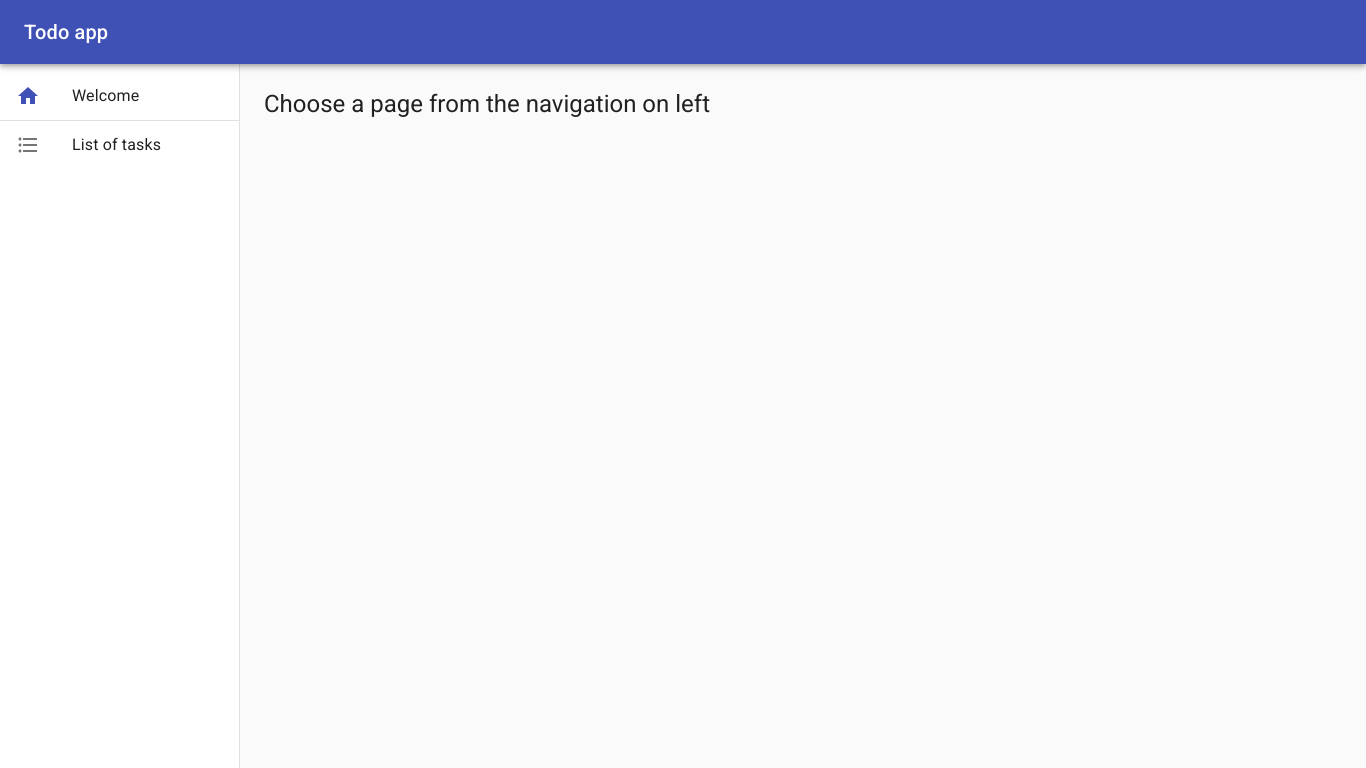
Scenario: Task list page testing › The page should contain form and it should perform well
The image size is (1366, 768).
Click the link "List of tasks" at (89, 145), box [16,133,161,157]
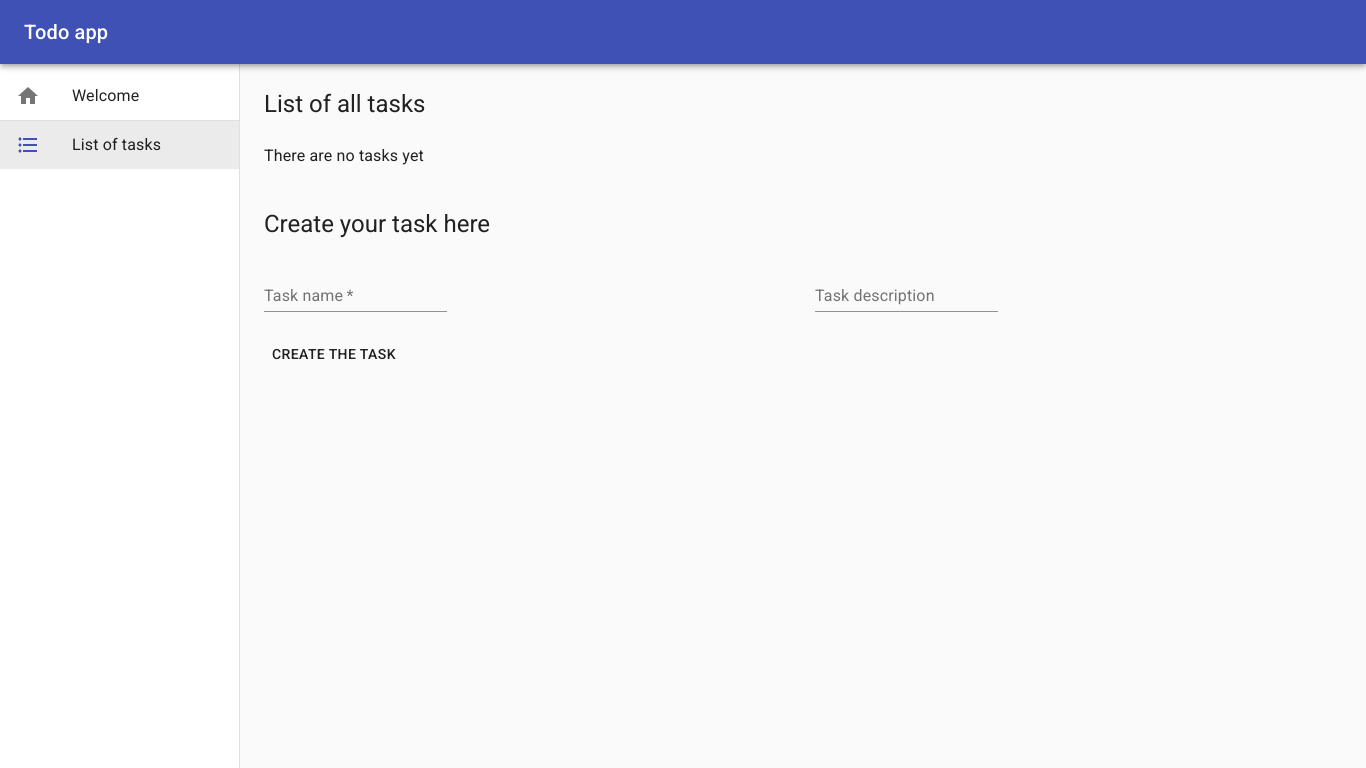
Type "hello" into the element with test id "name" at (356, 288), box [264,264,447,312]
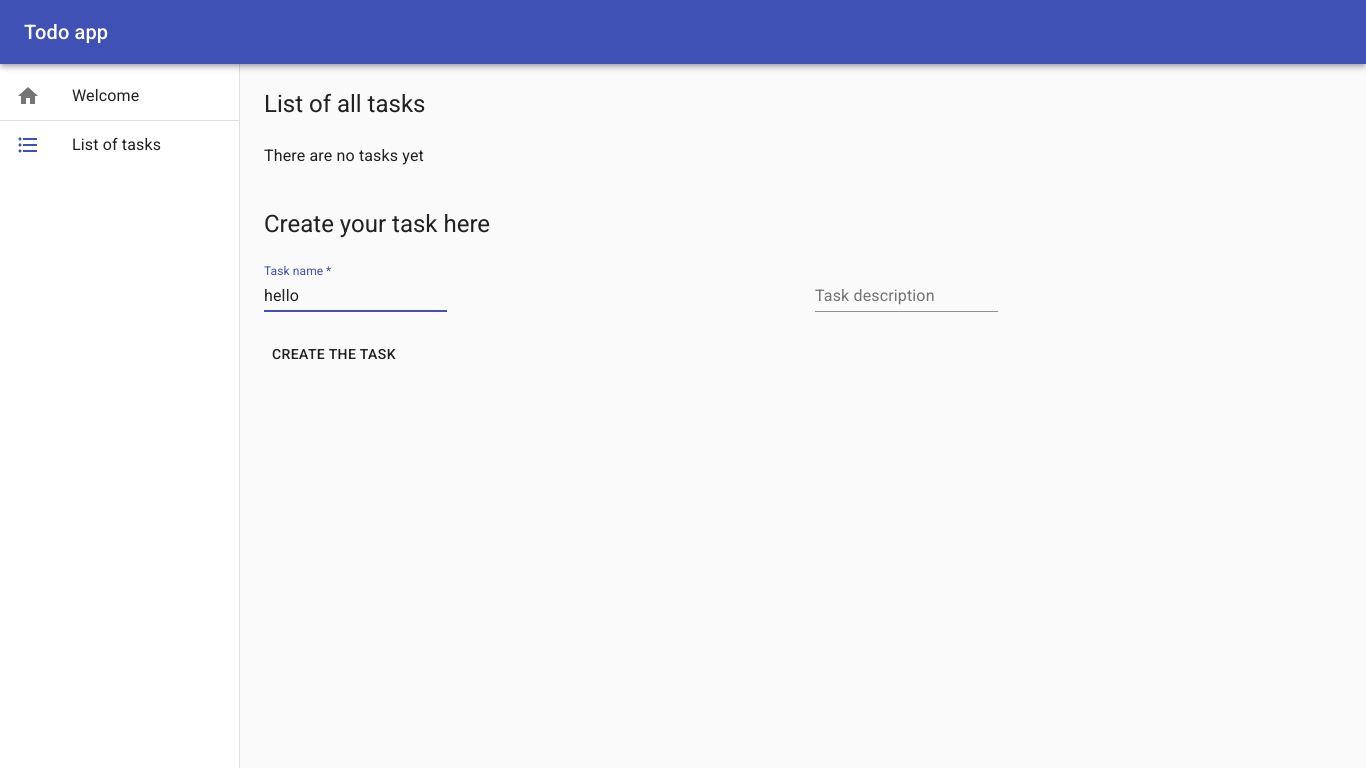
Type "world" into the element with test id "description" at (907, 288), box [815,264,998,312]
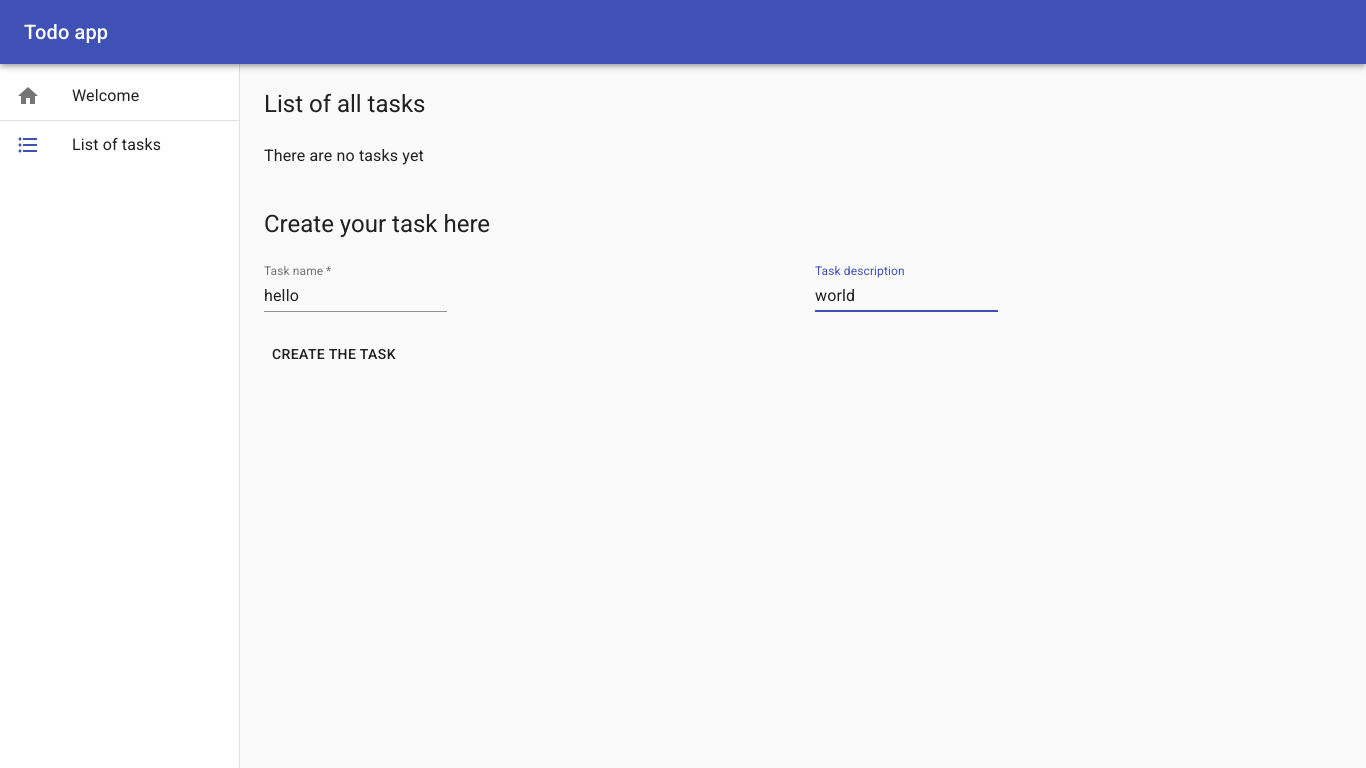
Submit the form with test id "taskForm", box [264,264,998,373]
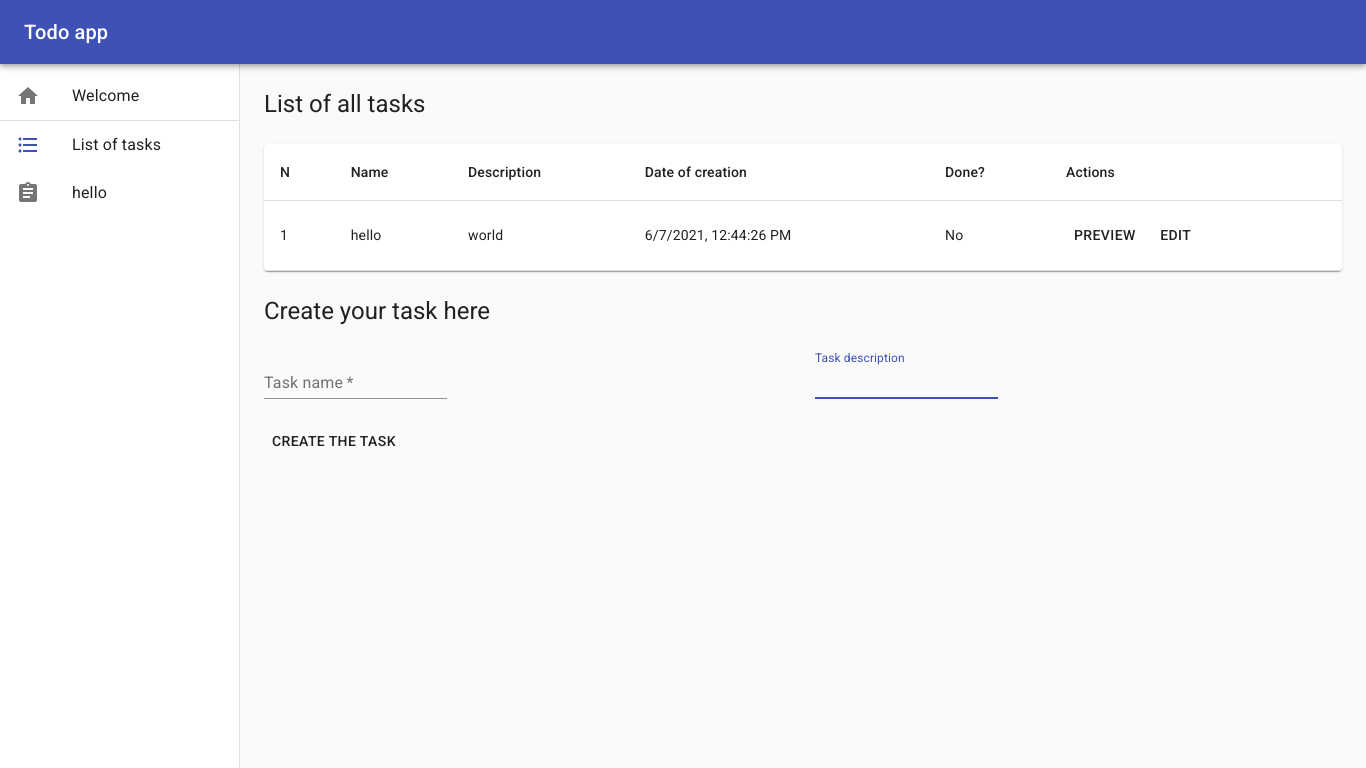
Result: the cell with test id "table" reads "hello" at [351,227,382,243]
Result: the cell with test id "table" reads "world" at [468,227,503,243]
Result: the text with test id "navigation" reads "hello" at [72,183,107,202]
